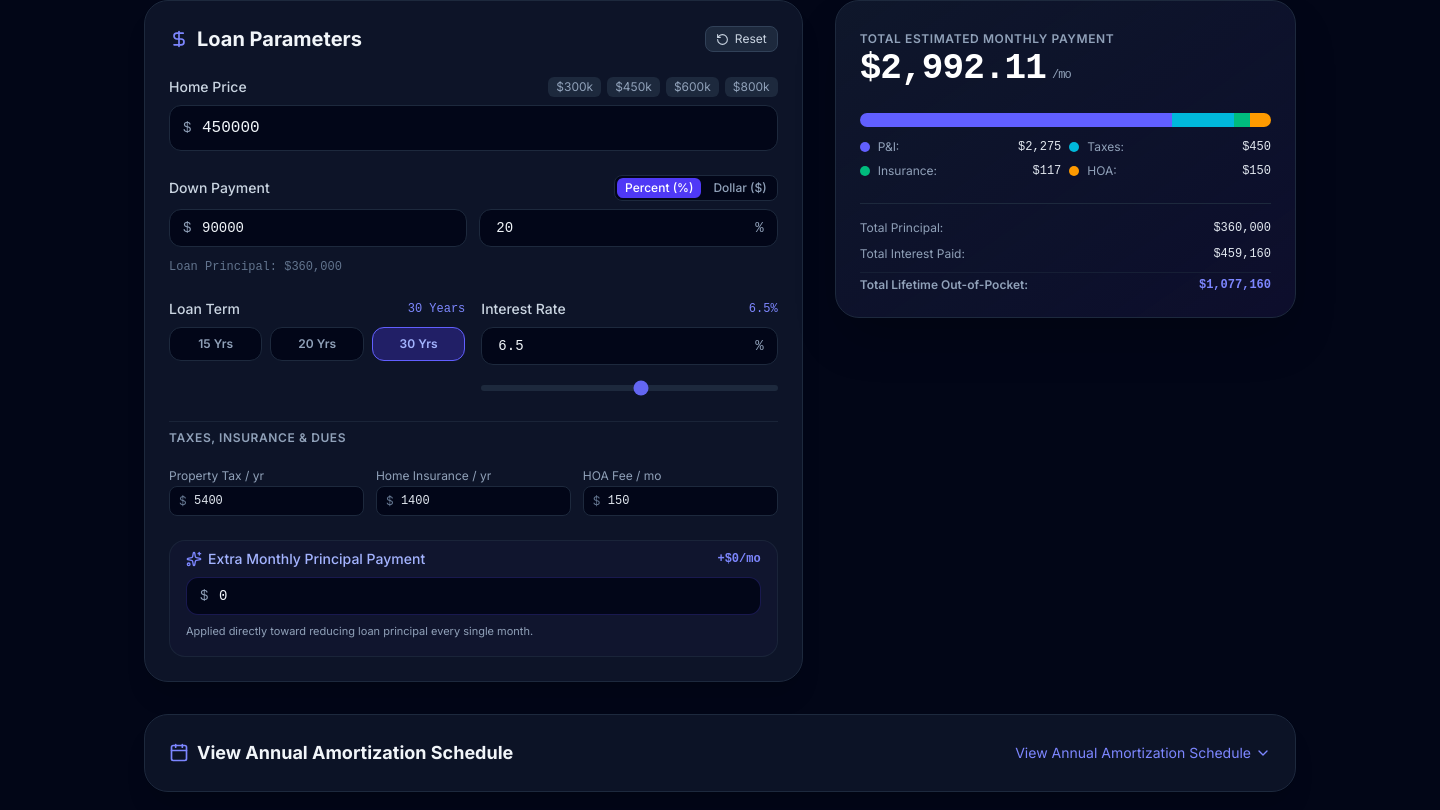
Test: OmniCalc Acceptance Test Suite (Stories S-1 to S-7) › Story S-3: Mortgage Monthly Estimation › handles 100% down payment: $500,000 down payment on $450,000 price clamps to $450,000, Principal $0, P&I $0
# Switch to Dollar ($) down payment
Click the button "Dollar ($)". click: click(740, 188)
box: x1=705 y1=178 x2=775 y2=198
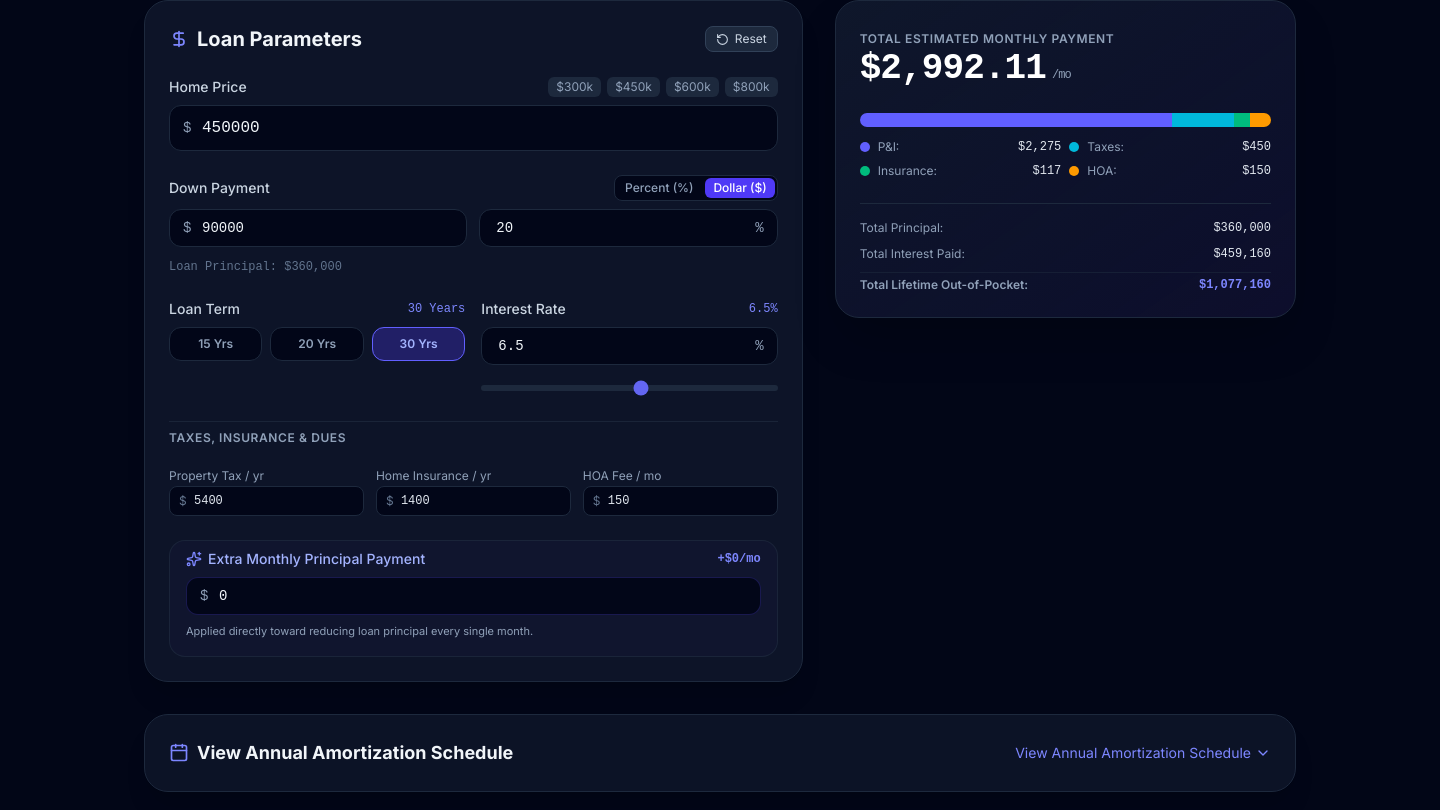
Replace the text in the 1st number field showing "90000" with "500000". click: (318, 228)
box: x1=169 y1=209 x2=467 y2=247
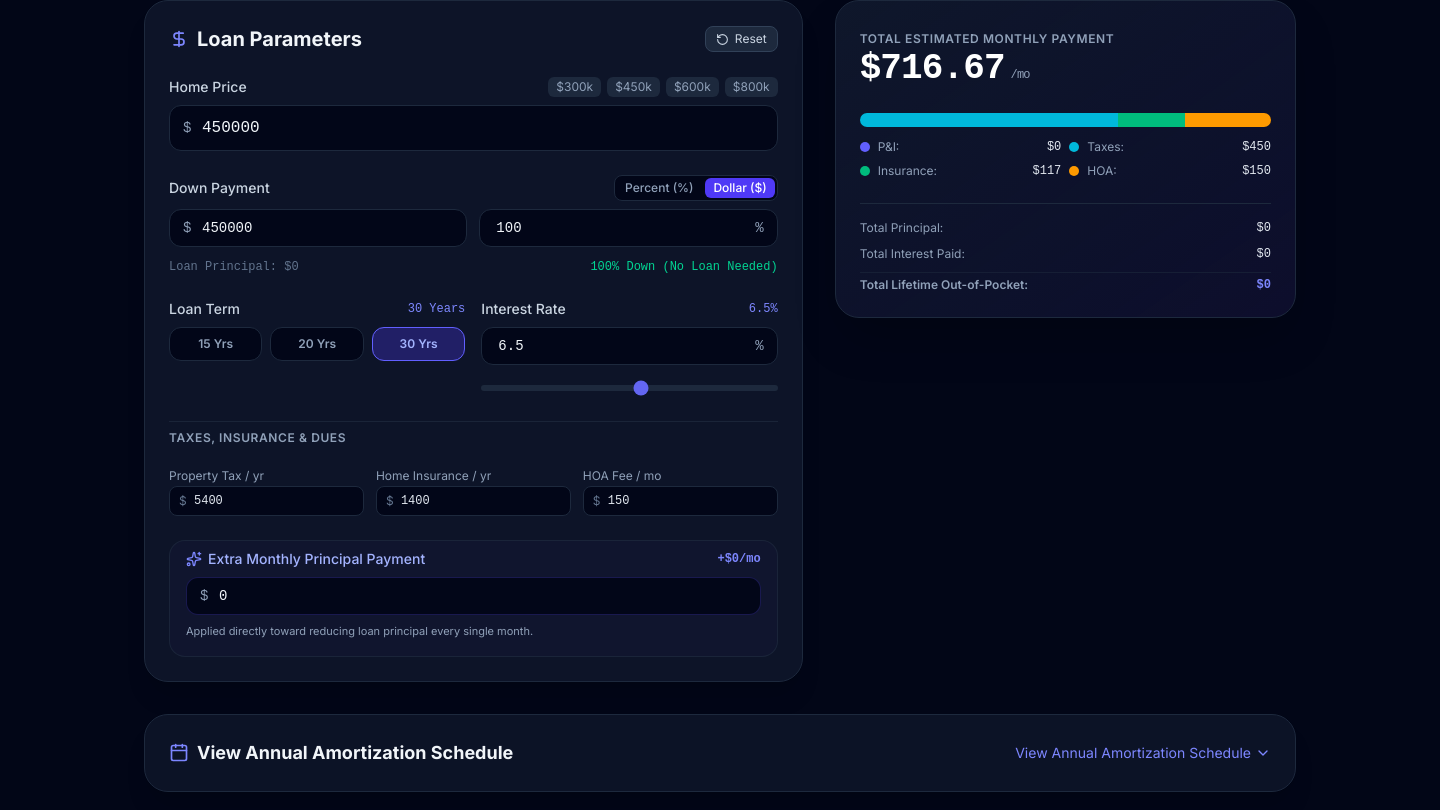
Check: the element showing "P&I: $0" is shown, box x1=860 y1=139 x2=1061 y2=155
Check: the text "100% Down (No Loan Needed)" is shown, box x1=590 y1=260 x2=778 y2=274
